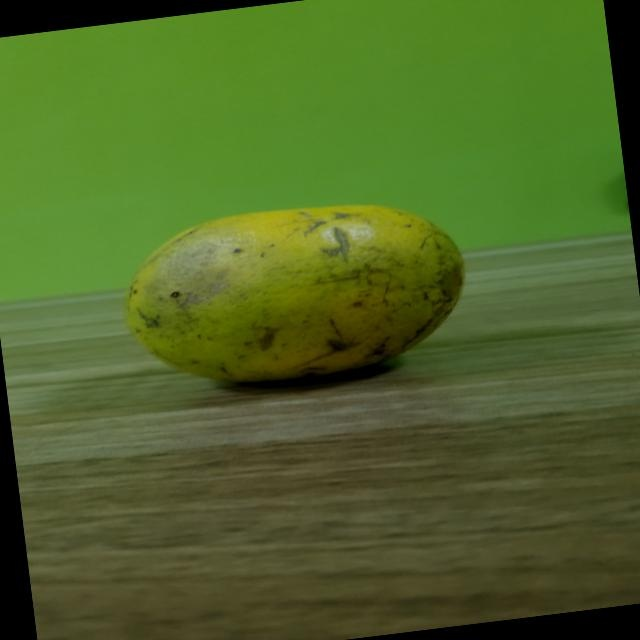agrume: (98, 179, 494, 413)
